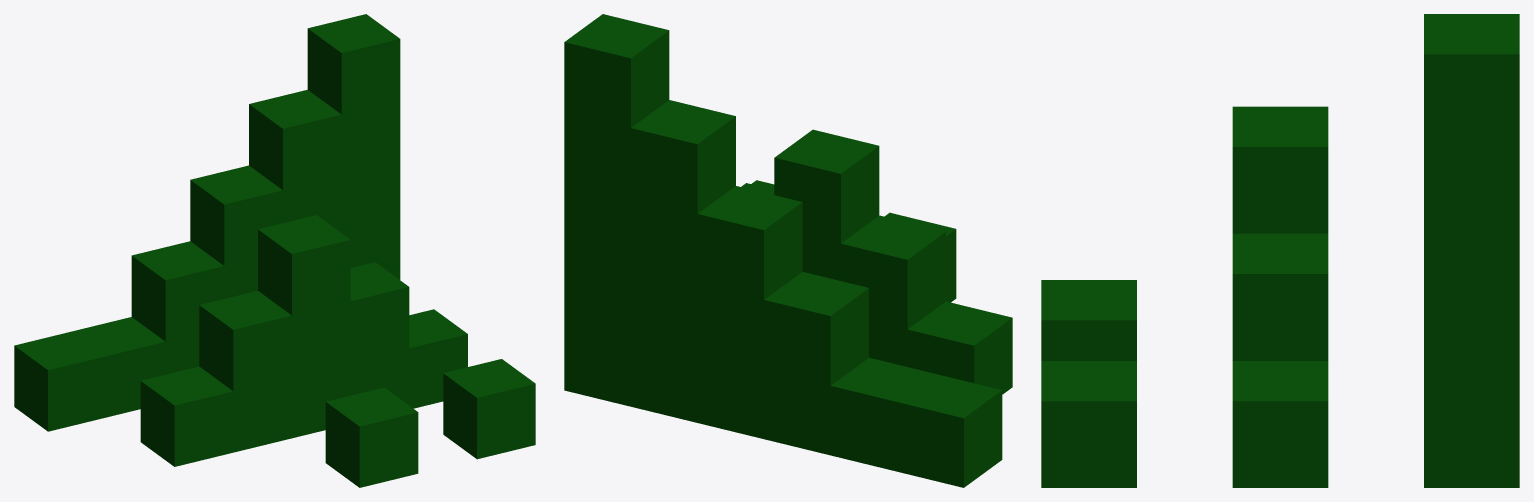
Rendered from grass.glb.
The picture shows the model from 3 angles, left to right: view 1: azimuth 30°, elevation 25°; view 2: azimuth 150°, elevation 25°; view 3: azimuth 270°, elevation 25°; orthographic projection. The views are drawn at different scales.
Visible parts, largest first — view 1: node0; view 2: node0; view 3: node0.
Boxes of the visible parts, bbox=[...] form: node0: bbox=[14, 14, 535, 487]; node0: bbox=[564, 14, 1012, 487]; node0: bbox=[1041, 14, 1519, 487].
Bounding box in the file's own units: 0.6 × 0.5 × 0.5.
1 material, 1 textured.
